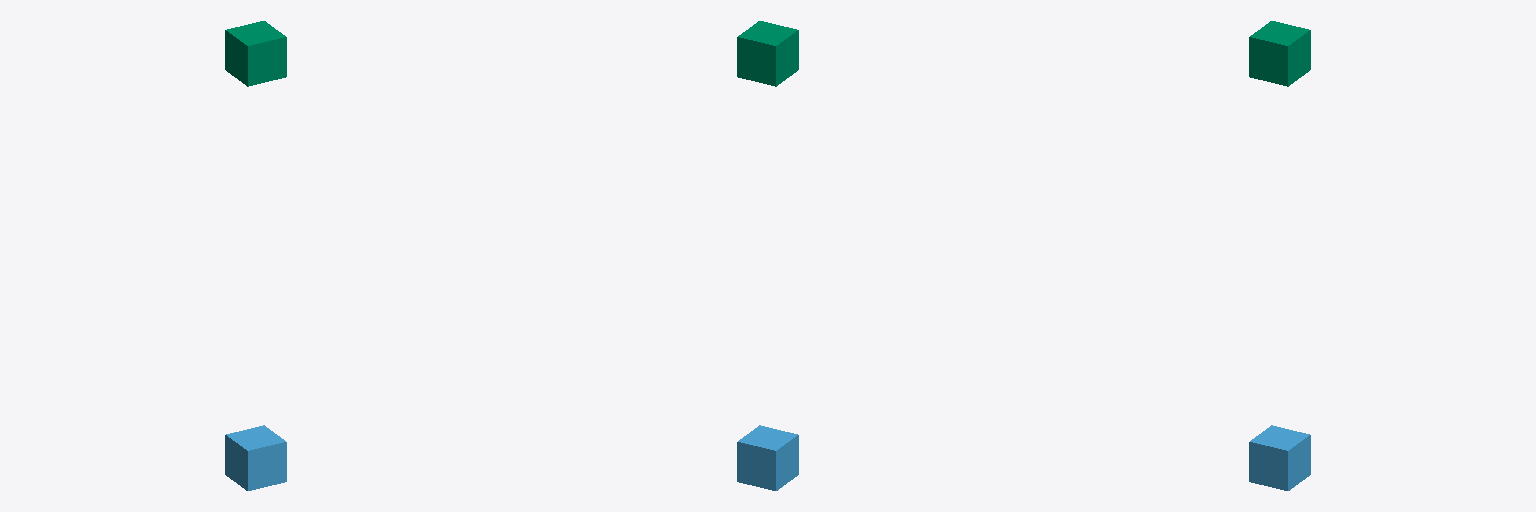
robot.urdf — two_joint_arm:
<?xml version="1.0"?>
<robot name="two_joint_arm">

  <!-- Define the joints -->
  <joint name="shoulder_joint" type="revolute">
    <origin xyz="0 0 1" rpy="0 0 0"/>
    <parent link="base_link"/>
    <child link="shoulder_link"/>
    <axis xyz="0 1 0"/>
    <limit lower="-3.14" upper="3.14" effort="100" velocity="3.14"/>
  </joint>

  <joint name="elbow_joint" type="revolute">
    <origin xyz="0 0 1" rpy="0 0 0"/>
    <parent link="shoulder_link"/>
    <child link="elbow_link"/>
    <axis xyz="0 1 0"/>
    <limit lower="-3.14" upper="3.14" effort="100" velocity="3.14"/>
  </joint>

  <!-- Define the links -->
  <link name="base_link"/>

  <link name="shoulder_link">
    <visual>
      <origin xyz="0 0 0" rpy="0 0 0"/>
      <geometry>
        <box size="0.1 0.1 0.1"/>
      </geometry>
    </visual>
    <collision>
      <origin xyz="0 0 0" rpy="0 0 0"/>
      <geometry>
        <box size="0.1 0.1 0.1"/>
      </geometry>
    </collision>
  </link>

  <link name="elbow_link">
    <visual>
      <origin xyz="0 0 0" rpy="0 0 0"/>
      <geometry>
        <box size="0.1 0.1 0.1"/>
      </geometry>
    </visual>
    <collision>
      <origin xyz="0 0 0" rpy="0 0 0"/>
      <geometry>
        <box size="0.1 0.1 0.1"/>
      </geometry>
    </collision>
  </link>

  <!-- Define the transmission -->
  <transmission name="trans">
    <type>transmission_interface/SimpleTransmission</type>
    <joint name="shoulder_joint">
      <hardwareInterface>hardware_interface/PositionJointInterface</hardwareInterface>
    </joint>
  </transmission>

</robot>

--- Render facts (derived) ---
3 views of the same robot in one strip: view 1: azimuth 30°, elevation 25°; view 2: azimuth 150°, elevation 25°; view 3: azimuth 330°, elevation 25° (orthographic).
Robot: two_joint_arm — 3 links, 2 joints (2 revolute); root link base_link; default pose: every joint at zero.
Links seen in each view (by area): view 1: shoulder_link, elbow_link; view 2: shoulder_link, elbow_link; view 3: shoulder_link, elbow_link.
Boxes of the visible links, x1=… form: shoulder_link: x1=225, y1=425, x2=286, y2=490; elbow_link: x1=225, y1=21, x2=286, y2=86; shoulder_link: x1=737, y1=425, x2=798, y2=490; elbow_link: x1=737, y1=21, x2=798, y2=86; shoulder_link: x1=1249, y1=425, x2=1310, y2=490; elbow_link: x1=1249, y1=21, x2=1310, y2=86.
Size in the robot's own frame: 0.1 by 0.1 by 1.1 metres.
Geometry: primitives only (box / cylinder / sphere), no mesh files.
